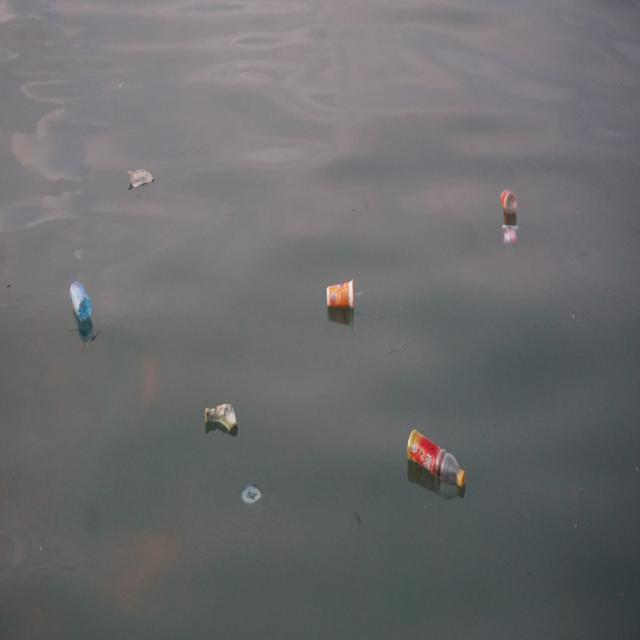Botol Plastik: (403, 424, 470, 498), (67, 274, 97, 331), (498, 177, 522, 220)
Bungkus Makanan: (501, 217, 525, 253)
Bungkus Minuman: (325, 275, 361, 319)
